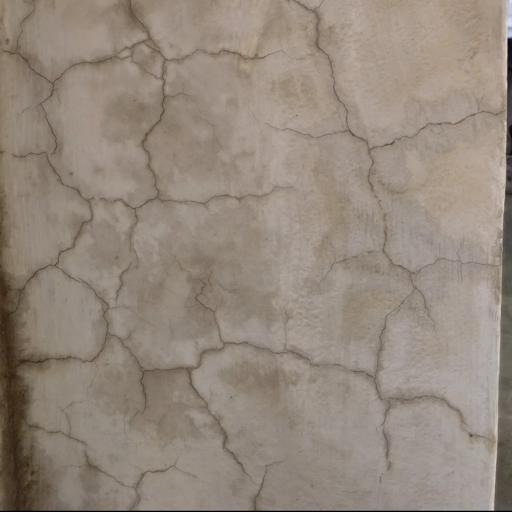major_crack: (0, 2, 512, 512)
